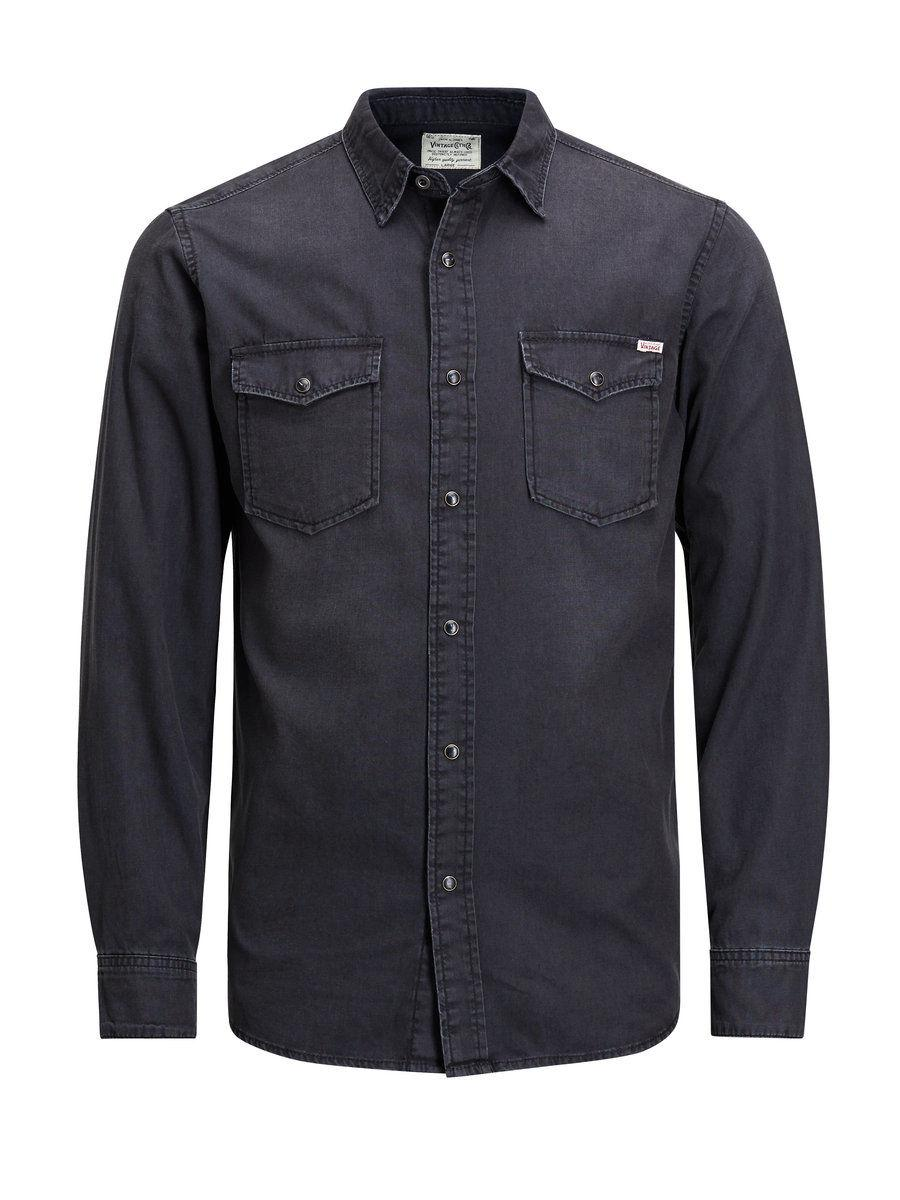teeshirt: (76, 83, 836, 1091)
